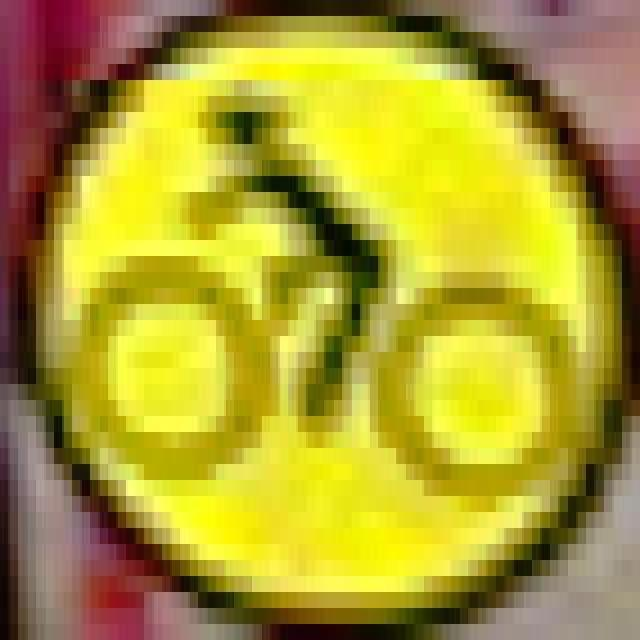bike lane: (18, 0, 630, 608)
